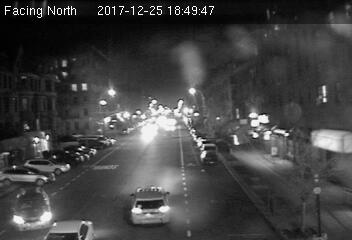car: (127, 185, 175, 225), (12, 187, 54, 230), (199, 150, 219, 165)
